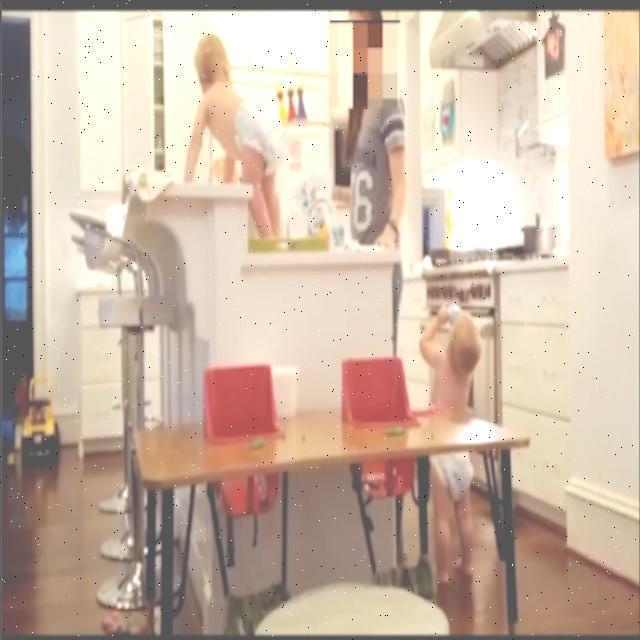child: (179, 39, 280, 252), (421, 297, 483, 577)
